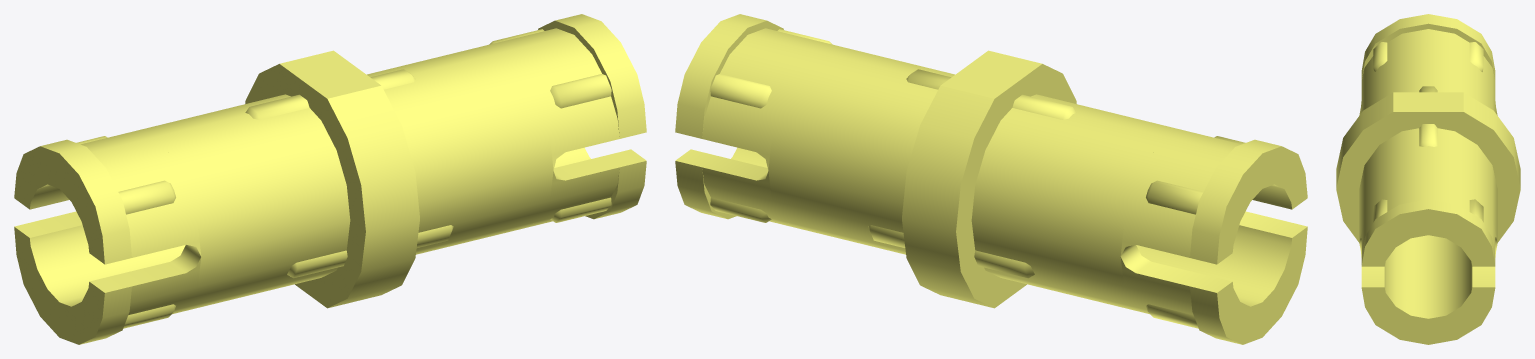
The picture shows the model from 3 angles, left to right: view 1: azimuth 30°, elevation 25°; view 2: azimuth 150°, elevation 25°; view 3: azimuth 270°, elevation 25°; orthographic projection. The views are drawn at different scales.
Visible parts, largest first — view 1: 61332.dat; view 2: 61332.dat; view 3: 61332.dat.
Boxes of the visible parts, x1,y1,x2,y2 form: 61332.dat: (14, 14, 646, 344); 61332.dat: (675, 14, 1307, 344); 61332.dat: (1336, 14, 1520, 344).
Bounding box in the file's own units: 0.016 × 0.00591 × 0.0064.
